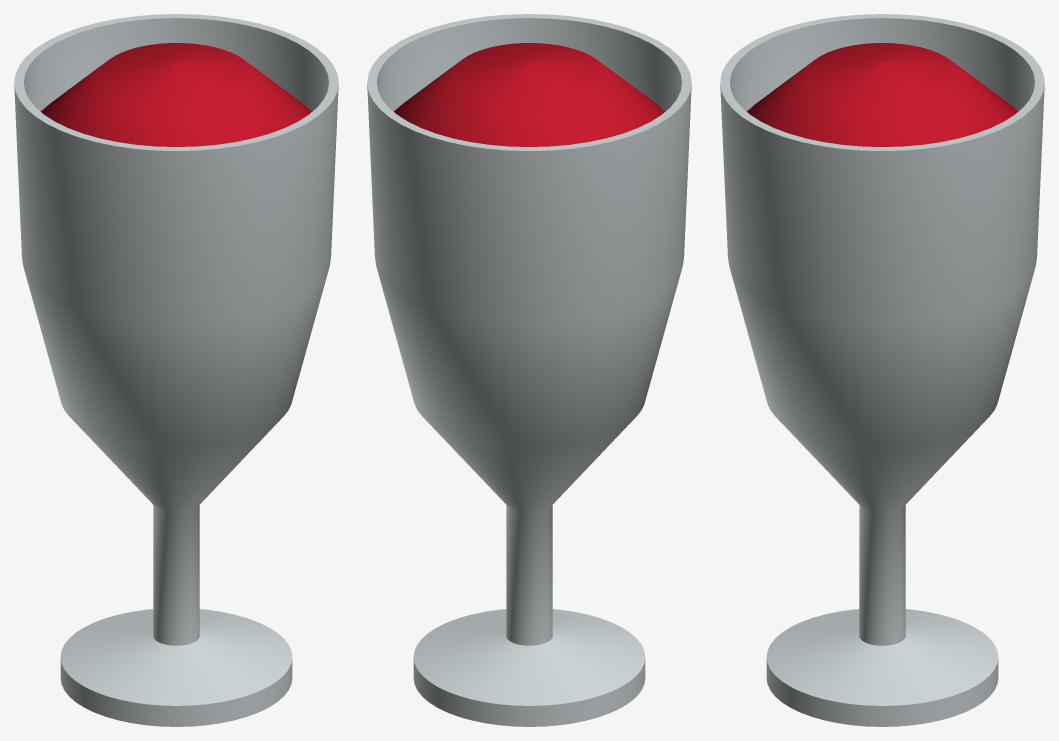
The model's file is cremoso-vermelho.glb.
3 views of the same model, side by side, from view 1: azimuth 30°, elevation 25°; view 2: azimuth 150°, elevation 25°; view 3: azimuth 270°, elevation 25° (orthographic).
Visible parts, largest first — view 1: cremoso-vermelho; view 2: cremoso-vermelho; view 3: cremoso-vermelho.
Boxes of the visible parts, left/top/right/bottom form: cremoso-vermelho: left=14, top=14, right=338, bottom=726; cremoso-vermelho: left=367, top=14, right=691, bottom=726; cremoso-vermelho: left=720, top=14, right=1044, bottom=726.
Size of the model in its own units: 0.084 by 0.176 by 0.084.
